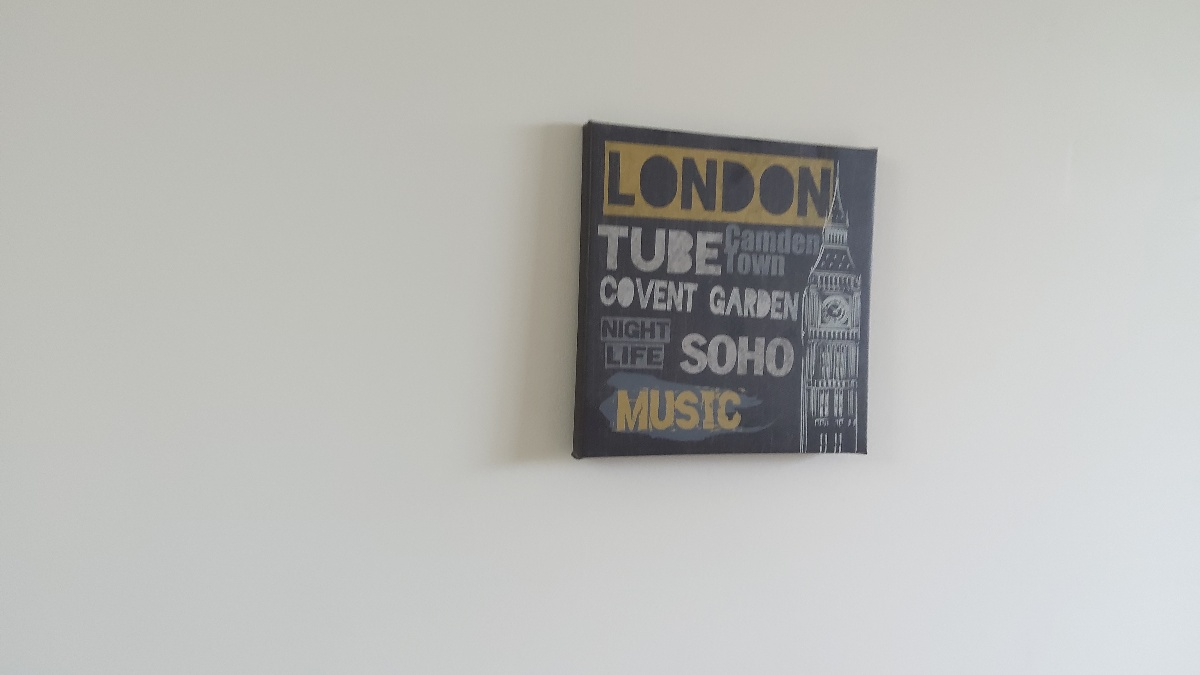poster: (561, 115, 875, 464)
